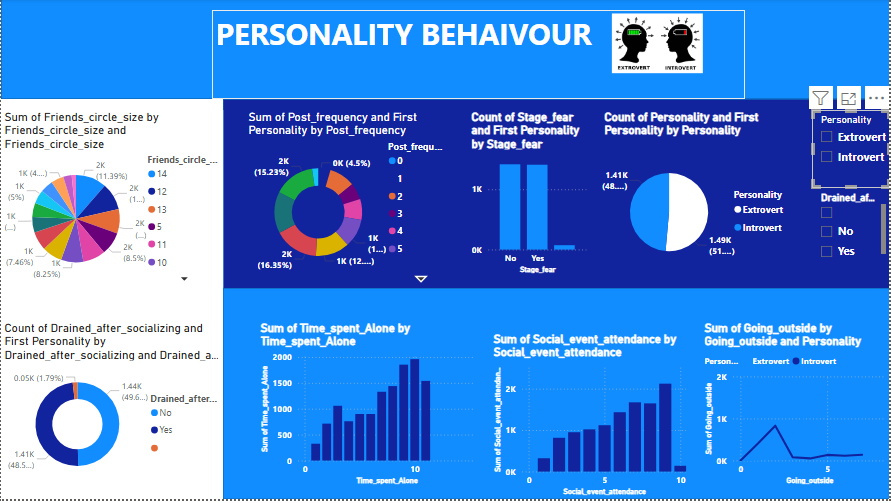

The dashboard page shown, as its layout file describes it:
{"tool":"powerbi","page":{"name":"Page 1","canvas":[1280,720],"ordinal":0},"visuals":[{"type":"shape","box":[320,144,960,288],"z":0},{"type":"pieChart","fields":{"Y":["CountNonNull(personality_dataset.Personality)"],"Series":["personality_dataset.Personality"]},"box":[864,160,288,256],"z":1000},{"type":"pieChart","fields":{"Y":["Sum(personality_dataset.Friends_circle_size)"],"Series":["personality_dataset.Friends_circle_size"],"Category":["personality_dataset.Friends_circle_size"]},"box":[0,160,320,256],"z":2000},{"type":"donutChart","fields":{"Y":["Sum(personality_dataset.Post_frequency)"],"Series":["personality_dataset.Post_frequency"]},"box":[352,160,304,256],"z":3000},{"type":"donutChart","fields":{"Y":["CountNonNull(personality_dataset.Drained_after_socializing)"],"Series":["personality_dataset.Drained_after_socializing"],"Category":["personality_dataset.Drained_after_socializing"]},"box":[0,464,320,240],"z":4000},{"type":"shape","box":[320,416,960,304],"z":5000},{"type":"clusteredColumnChart","fields":{"Category":["personality_dataset.Time_spent_Alone"],"Y":["Sum(personality_dataset.Time_spent_Alone)"]},"box":[368,464,320,240],"z":6000},{"type":"clusteredColumnChart","fields":{"Category":["personality_dataset.Stage_fear"],"Y":["CountNonNull(personality_dataset.Stage_fear)"]},"box":[672,160,176,240],"z":7000},{"type":"clusteredColumnChart","fields":{"Category":["personality_dataset.Social_event_attendance"],"Y":["Sum(personality_dataset.Social_event_attendance)"]},"box":[704,480,288,240],"z":8000},{"type":"lineChart","fields":{"Category":["personality_dataset.Going_outside"],"Y":["Sum(personality_dataset.Going_outside)"],"Series":["personality_dataset.Personality"]},"box":[1008,464,272,240],"z":9000},{"type":"slicer","fields":{"Values":["personality_dataset.Personality"]},"box":[1168,160,112,112],"z":10000},{"type":"slicer","fields":{"Values":["personality_dataset.Drained_after_socializing"]},"box":[1168,272,112,112],"z":11000},{"type":"shape","box":[0,0,1280,144],"z":12000},{"type":"textbox","box":[304,16,768,128],"z":13000},{"type":"image","box":[800,16,288,96],"z":13001}]}

Visuals, with their boxes on the page's 1280x720 design canvas (x1, y1, x2, y2). These are canvas units, not pixel positions in the 891x503 screenshot, which may show the page scaled, cropped or inside an application window:
shape: l=320, t=144, r=1280, b=432
pieChart - CountNonNull(personality_dataset.Personality) x personality_dataset.Personality: l=864, t=160, r=1152, b=416
pieChart - Sum(personality_dataset.Friends_circle_size) x personality_dataset.Friends_circle_size: l=0, t=160, r=320, b=416
donutChart - Sum(personality_dataset.Post_frequency) x personality_dataset.Post_frequency: l=352, t=160, r=656, b=416
donutChart - CountNonNull(personality_dataset.Drained_after_socializing) x personality_dataset.Drained_after_socializing: l=0, t=464, r=320, b=704
shape: l=320, t=416, r=1280, b=720
clusteredColumnChart - personality_dataset.Time_spent_Alone x Sum(personality_dataset.Time_spent_Alone): l=368, t=464, r=688, b=704
clusteredColumnChart - personality_dataset.Stage_fear x CountNonNull(personality_dataset.Stage_fear): l=672, t=160, r=848, b=400
clusteredColumnChart - personality_dataset.Social_event_attendance x Sum(personality_dataset.Social_event_attendance): l=704, t=480, r=992, b=720
lineChart - personality_dataset.Going_outside x Sum(personality_dataset.Going_outside): l=1008, t=464, r=1280, b=704
slicer - personality_dataset.Personality: l=1168, t=160, r=1280, b=272
slicer - personality_dataset.Drained_after_socializing: l=1168, t=272, r=1280, b=384
shape: l=0, t=0, r=1280, b=144
textbox: l=304, t=16, r=1072, b=144
image: l=800, t=16, r=1088, b=112
